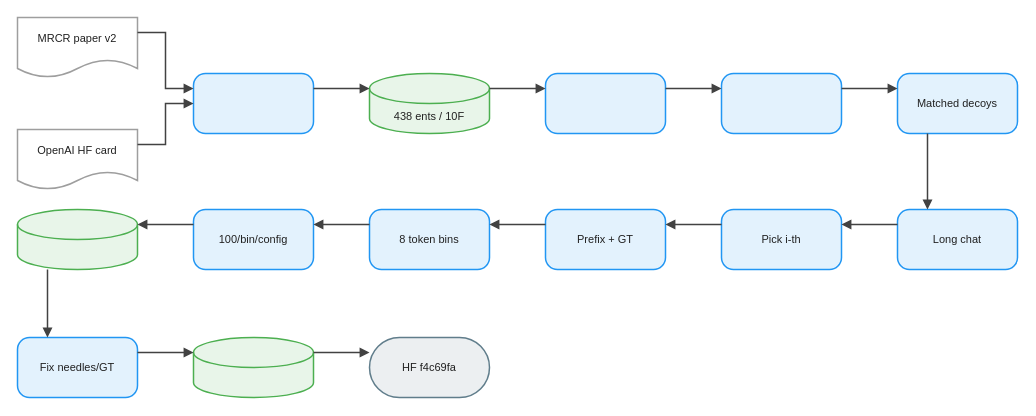
Some shapes in this 1036 by 416 pixel diagram are drawn without their labels. The centre of each missing label's shape, as x and y in pixels:
"2/4/8 repeats" belongs at (781,103).
"Expand design" belongs at (253,103).
"Fixed 2,400" belongs at (253,367).
"GPT-4o outputs" belongs at (605,103).
"Initial 2,400" belongs at (77,239).
